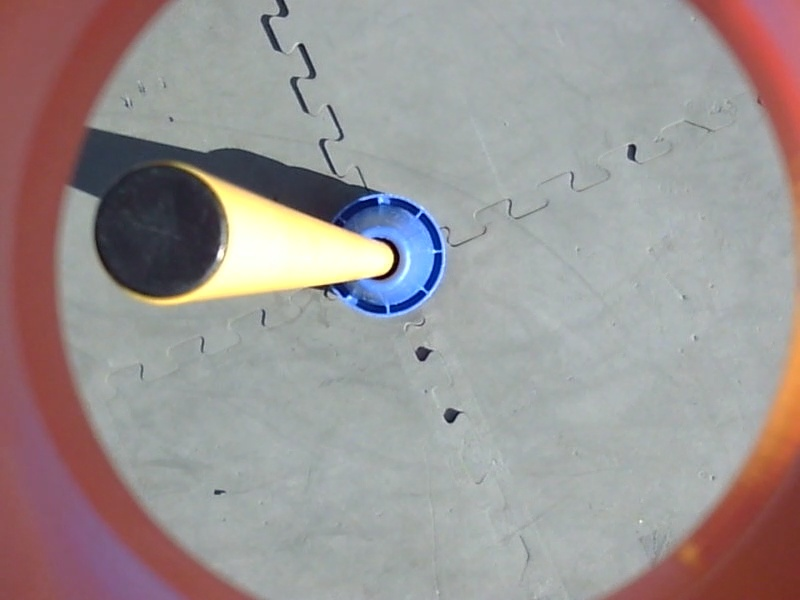tip: (86, 155, 239, 309)
